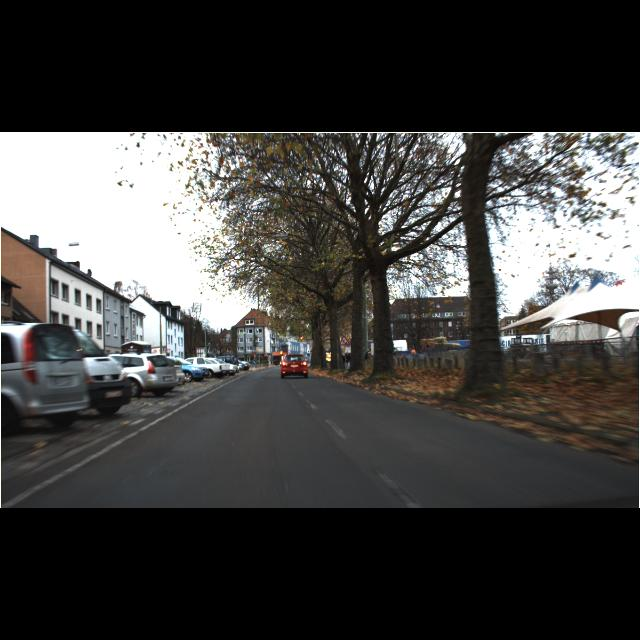danger: (338, 334, 350, 346)
